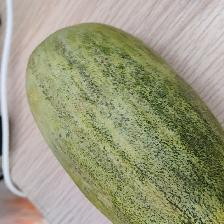gua: (44, 49, 190, 190)
